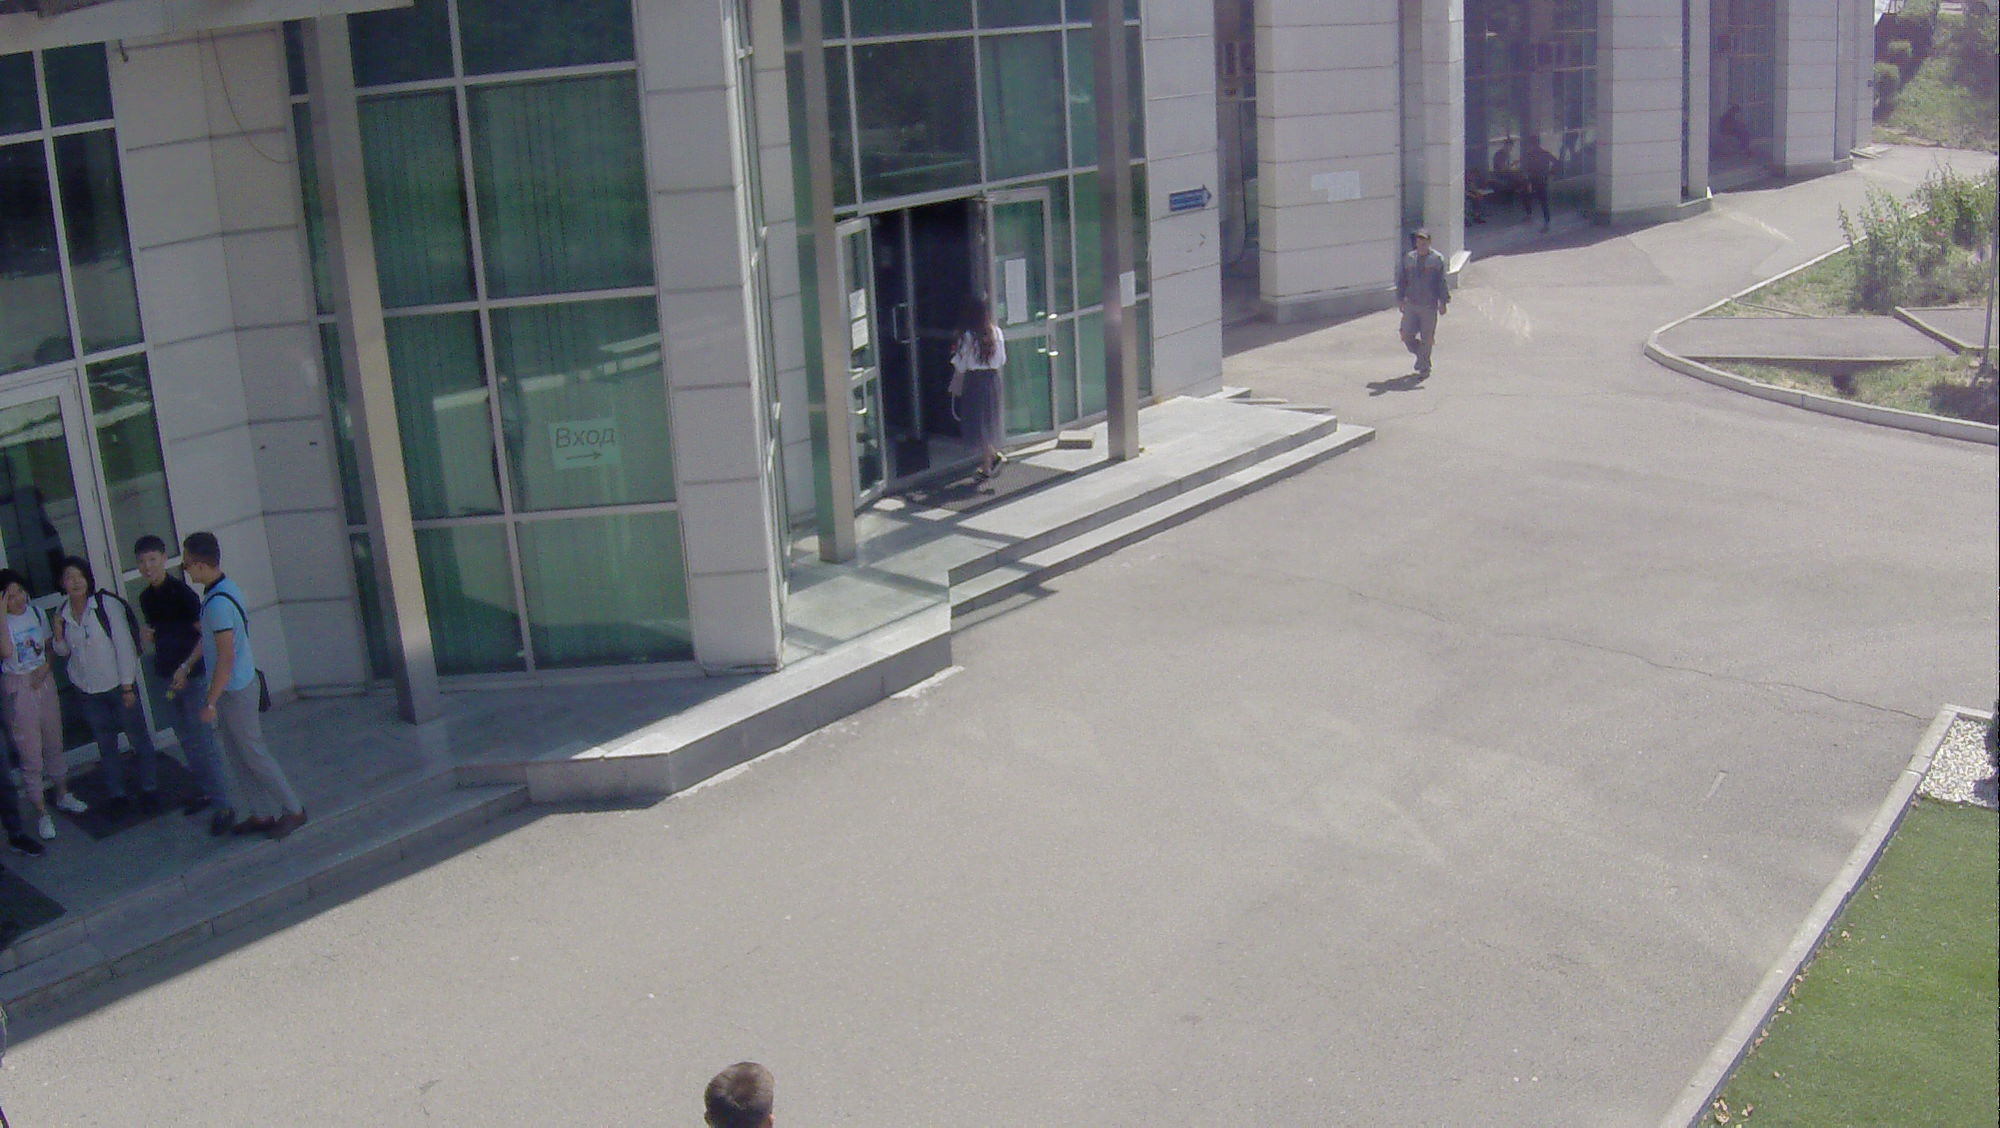person: (178, 512, 310, 847), (51, 545, 145, 814), (120, 520, 199, 816), (1, 563, 80, 858), (953, 289, 1016, 497), (1393, 224, 1445, 391)
